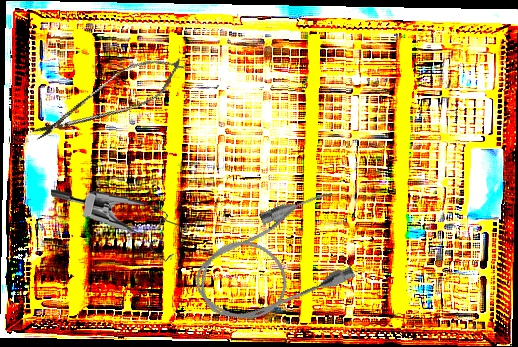Cannula: (179, 184, 367, 338)
Micro Scissor: (24, 43, 194, 156)
Speculum: (47, 187, 189, 263)
